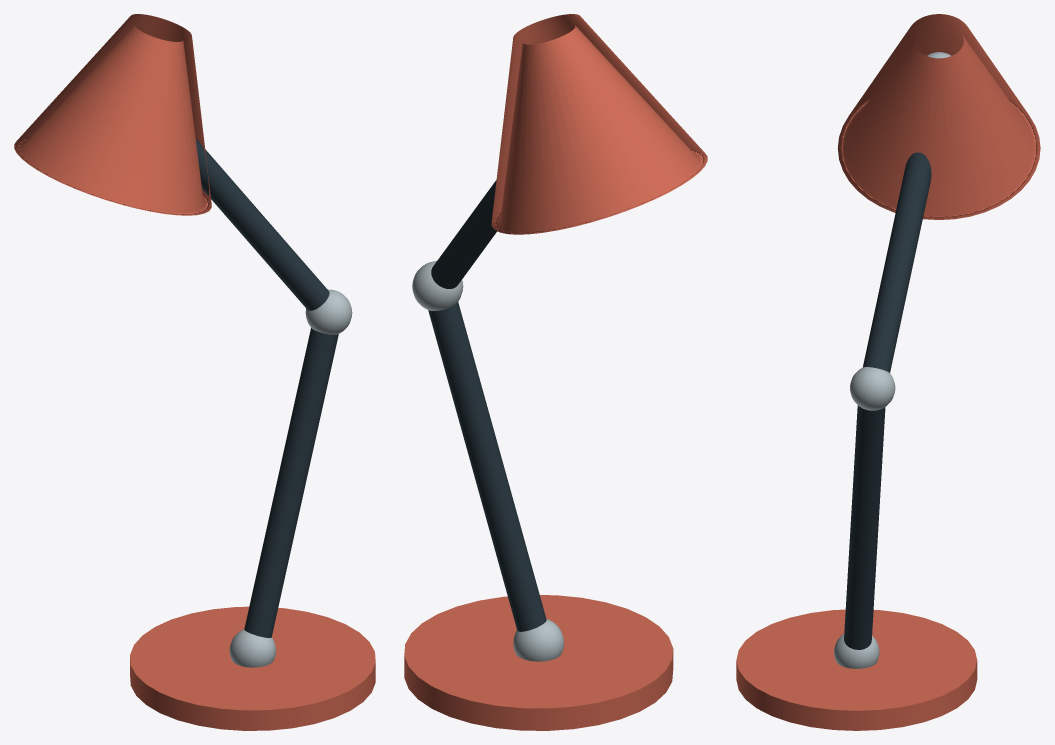
File: task-lamp.glb
3 views of the same model, side by side, from view 1: azimuth 30°, elevation 25°; view 2: azimuth 150°, elevation 25°; view 3: azimuth 270°, elevation 25° (orthographic). The views are drawn at different scales.
Visible parts, largest first — view 1: task-lamp, lamp-shade; view 2: task-lamp, lamp-shade; view 3: task-lamp, lamp-shade.
Part boxes in pixels (<box>): task-lamp: <box>130,138,375,730</box>; lamp-shade: <box>14,14,211,215</box>; task-lamp: <box>404,180,673,730</box>; lamp-shade: <box>491,14,707,234</box>; task-lamp: <box>736,52,977,730</box>; lamp-shade: <box>837,14,1040,219</box>.
Size of the model in its own units: 0.5146 by 1.1 by 0.48.
